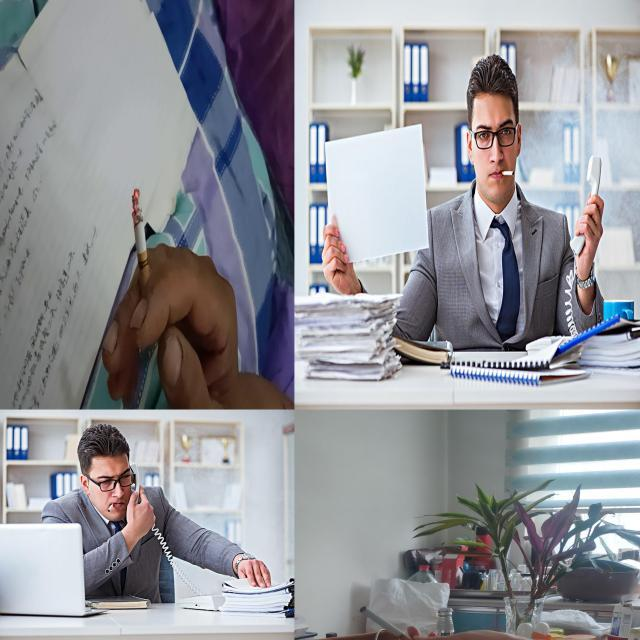smoking: (132, 188, 154, 325), (358, 606, 420, 640), (498, 161, 516, 182), (105, 501, 115, 514)
